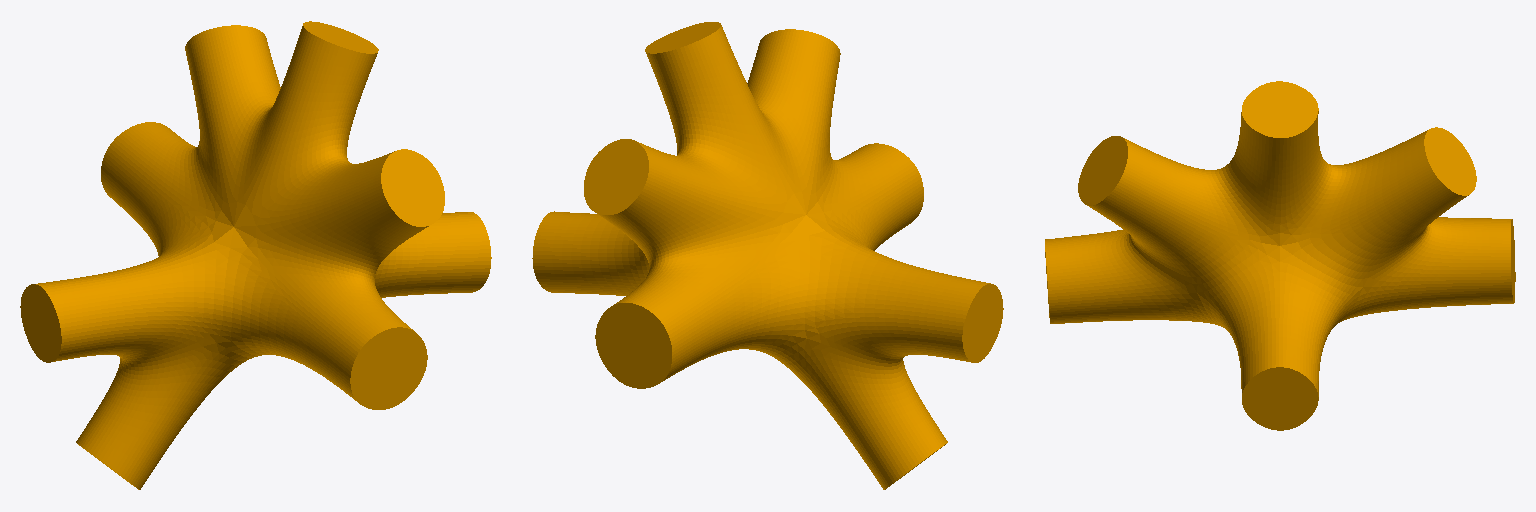
robot.urdf — object:
<robot name="object">
  <link name="object">
    <visual>
      <origin xyz="0 0 0"/>
      <geometry>
        <mesh filename="visual.obj" scale="1 1 1"/>
      </geometry>
    </visual>
    <collision>
      <origin xyz="0 0 0"/>
      <geometry>
        <mesh filename="collision.obj" scale="1 1 1"/>
      </geometry>
    </collision>
    <inertial>
      <mass value="0.05"/>
      <inertia ixx="0.00016002865412055413" iyy="0.00013774628164981686" izz="0.00018088985769121872" ixy="-1.8557126337705782e-07" ixz="-2.856473637395697e-05" iyz="-3.136826918879015e-06"/>
    </inertial>
  </link>
</robot>

--- Facts derived from the render (not from the file) ---
The picture shows the robot from 3 angles, left to right: view 1: azimuth 30°, elevation 25°; view 2: azimuth 150°, elevation 25°; view 3: azimuth 270°, elevation 25°; orthographic projection.
Robot: object — 1 links, 0 joints (none); root link object; default pose: every joint at zero.
Visible links, largest first — view 1: object; view 2: object; view 3: object.
Boxes of the visible links, x1,y1,x2,y2 form: object: [20, 21, 491, 489]; object: [532, 22, 1003, 489]; object: [1045, 81, 1515, 430].
Size in the robot's own frame: 0.2335 by 0.2337 by 0.2111 metres.
1 mesh visuals loaded from 1 distinct referenced files (1 OBJ).
